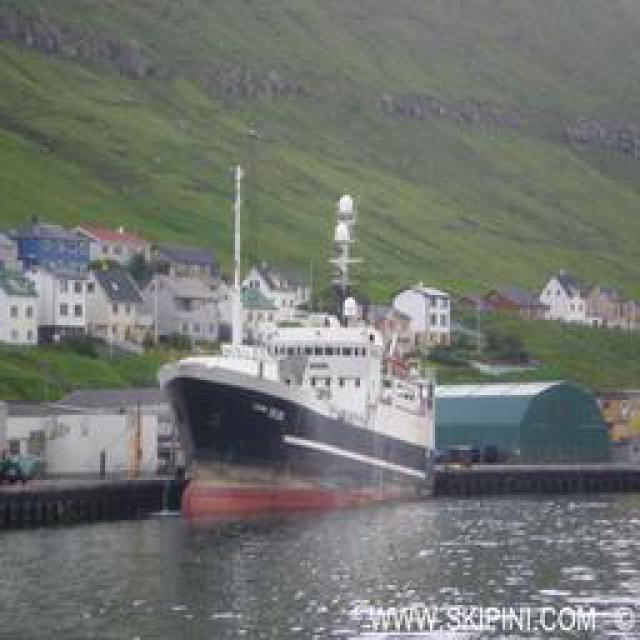Ship: (164, 325, 444, 528)
